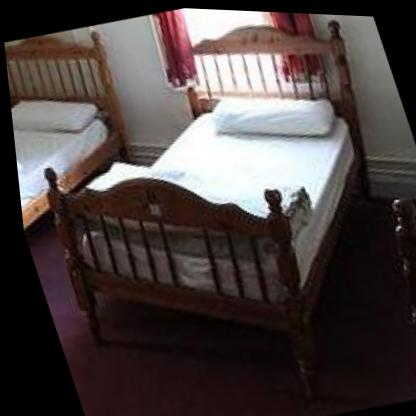Bed: (0, 0, 416, 416), (2, 22, 155, 239)
